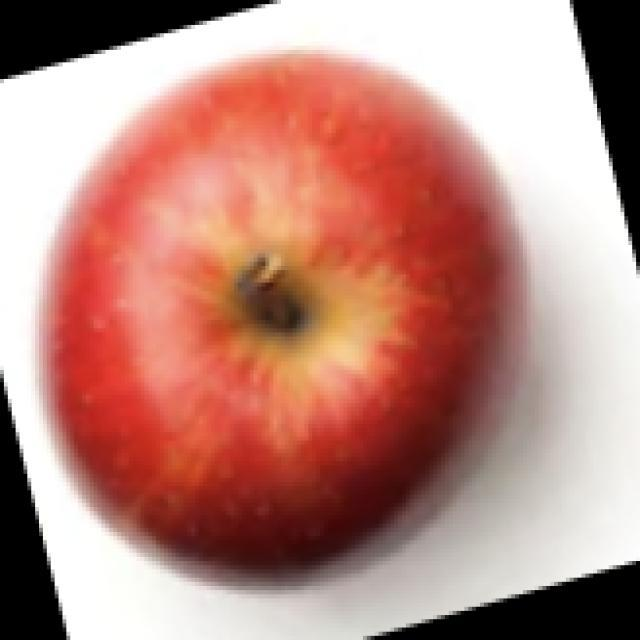Fresh Apple: (50, 50, 542, 582)
